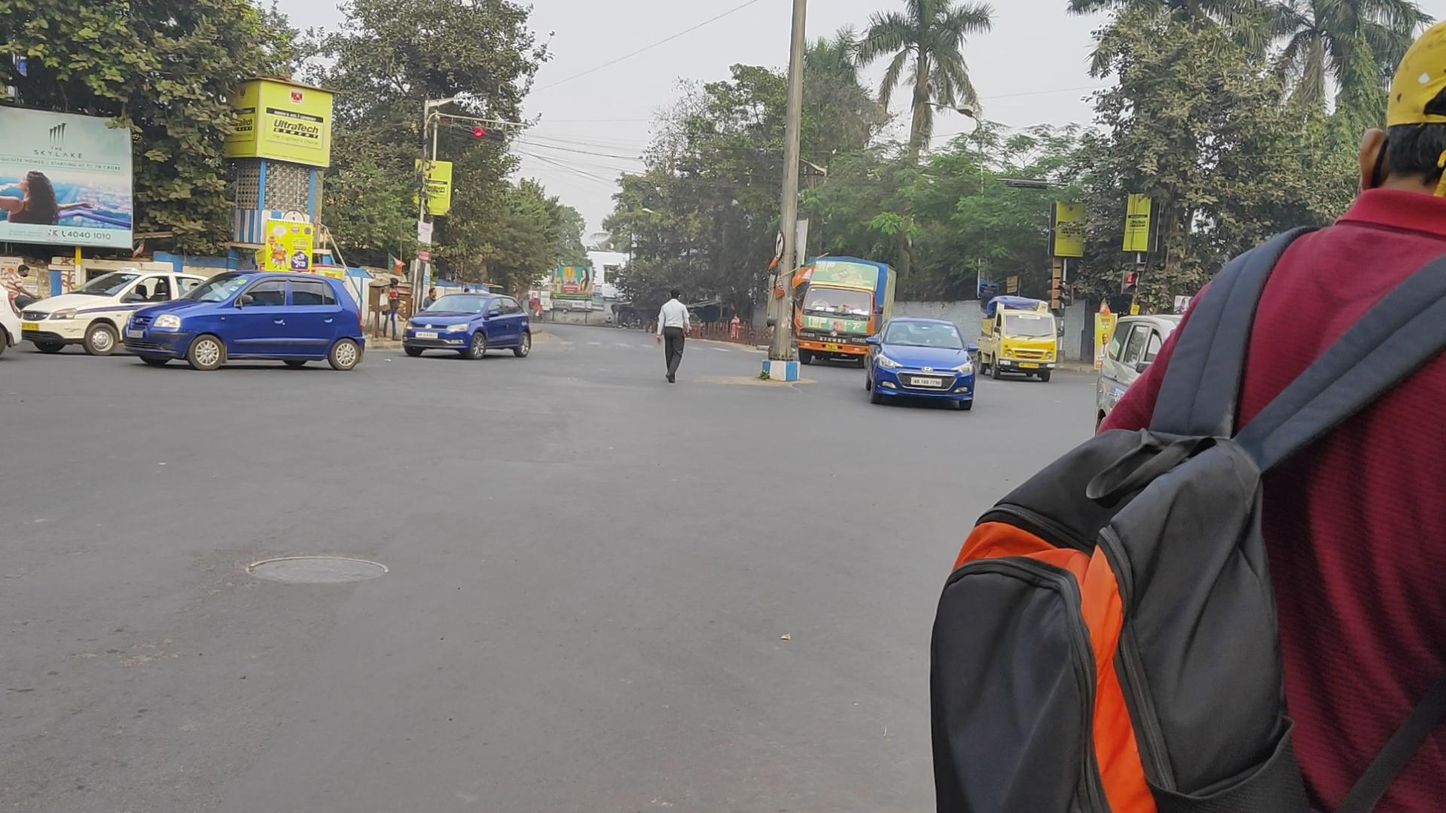car: (125, 271, 365, 370), (20, 267, 240, 357), (865, 317, 978, 411), (403, 292, 531, 359)
truck: (798, 256, 896, 369)
van: (978, 295, 1057, 382)
